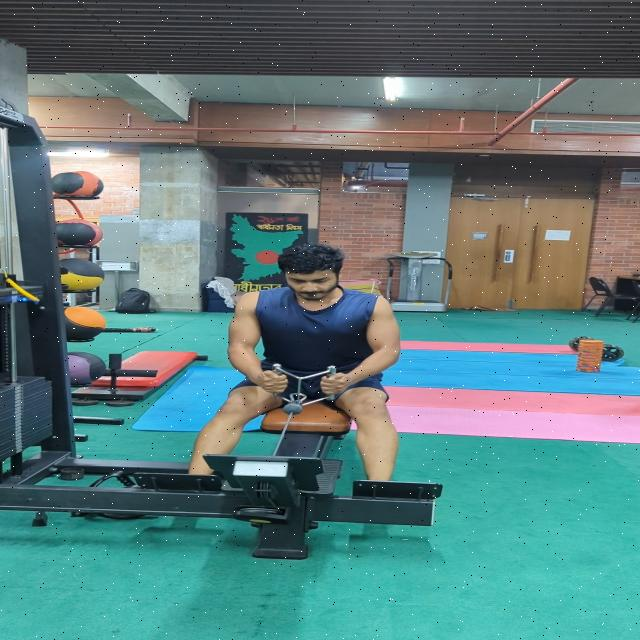Normal_RowingMachineExercise: (186, 244, 404, 487)
